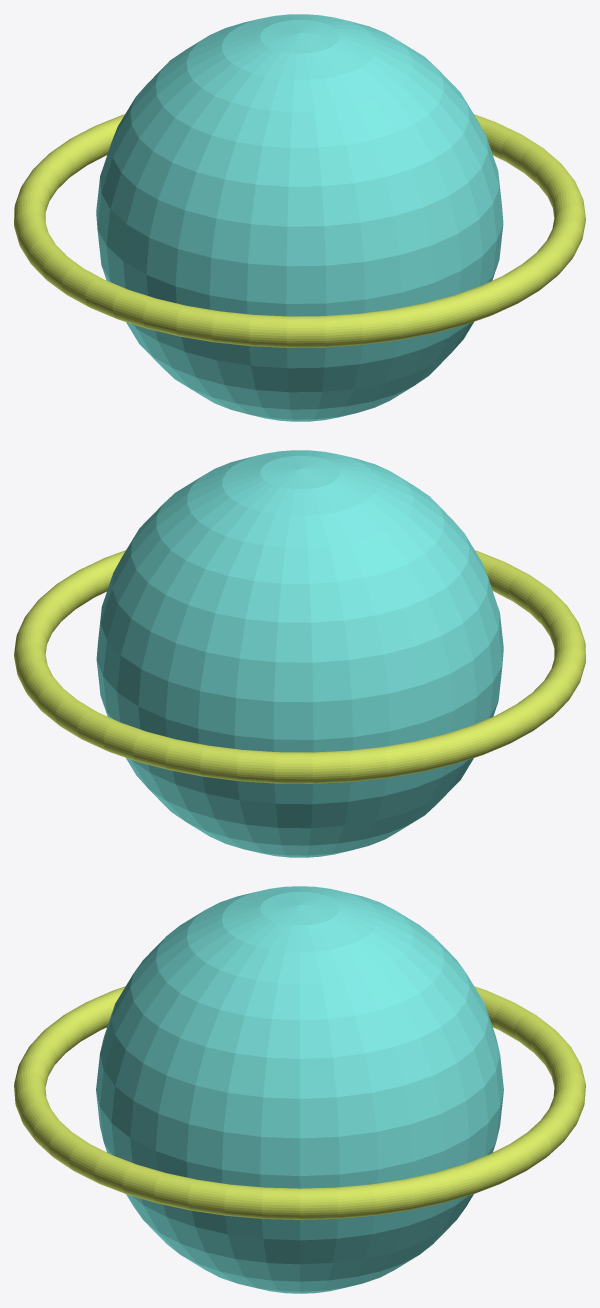
Rendered from Power Up.fbx.
3 views of the same model, one above another, from view 1: azimuth 30°, elevation 25°; view 2: azimuth 150°, elevation 25°; view 3: azimuth 270°, elevation 25° (orthographic).
Parts seen in each view (by area): view 1: Sphere, Torus.001; view 2: Sphere, Torus.001; view 3: Sphere, Torus.001.
Boxes of the visible parts, left/top/right/bottom form: Sphere: left=96, top=14, right=503, bottom=421; Torus.001: left=14, top=114, right=585, bottom=347; Sphere: left=96, top=450, right=503, bottom=857; Torus.001: left=14, top=550, right=585, bottom=783; Sphere: left=96, top=886, right=503, bottom=1293; Torus.001: left=14, top=986, right=585, bottom=1219.
Bounding box in the file's own units: 210 × 150 × 210.
